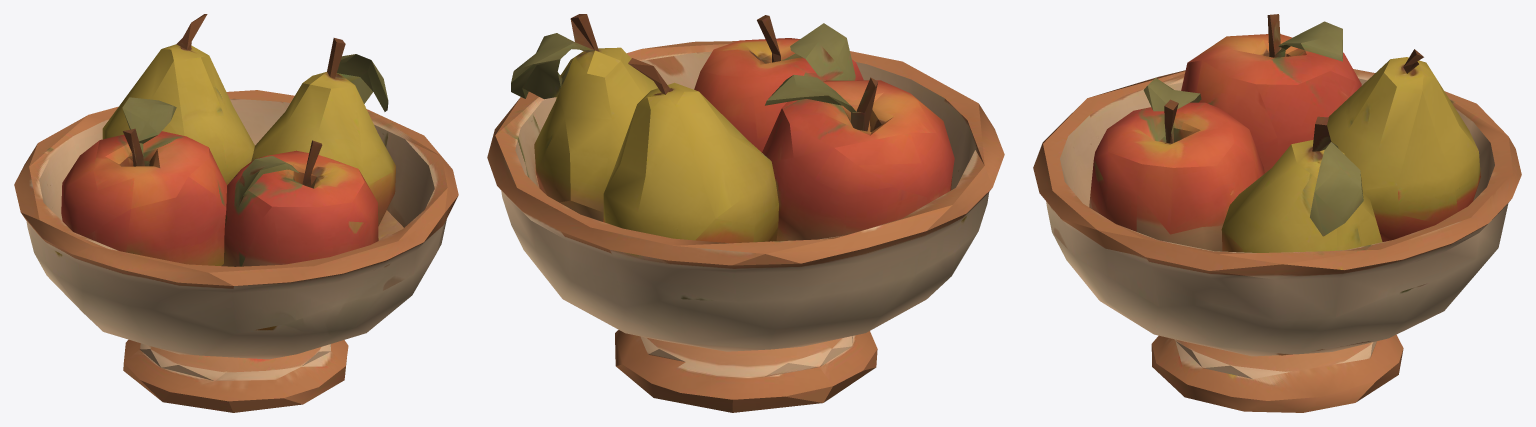
The model's file is Interior_FruitBowl_01.glb.
The picture shows the model from 3 angles, left to right: view 1: azimuth 30°, elevation 25°; view 2: azimuth 150°, elevation 25°; view 3: azimuth 270°, elevation 25°; orthographic projection. The views are drawn at different scales.
Parts seen in each view (by area): view 1: Interior_FruitBowl_01.001; view 2: Interior_FruitBowl_01.001; view 3: Interior_FruitBowl_01.001.
Boxes of the visible parts, left/top/right/bottom form: Interior_FruitBowl_01.001: left=14, top=14, right=458, bottom=412; Interior_FruitBowl_01.001: left=487, top=14, right=1004, bottom=412; Interior_FruitBowl_01.001: left=1033, top=14, right=1521, bottom=412.
Bounding box in the file's own units: 0.9936 × 0.7364 × 1.
1 material, 1 textured.
